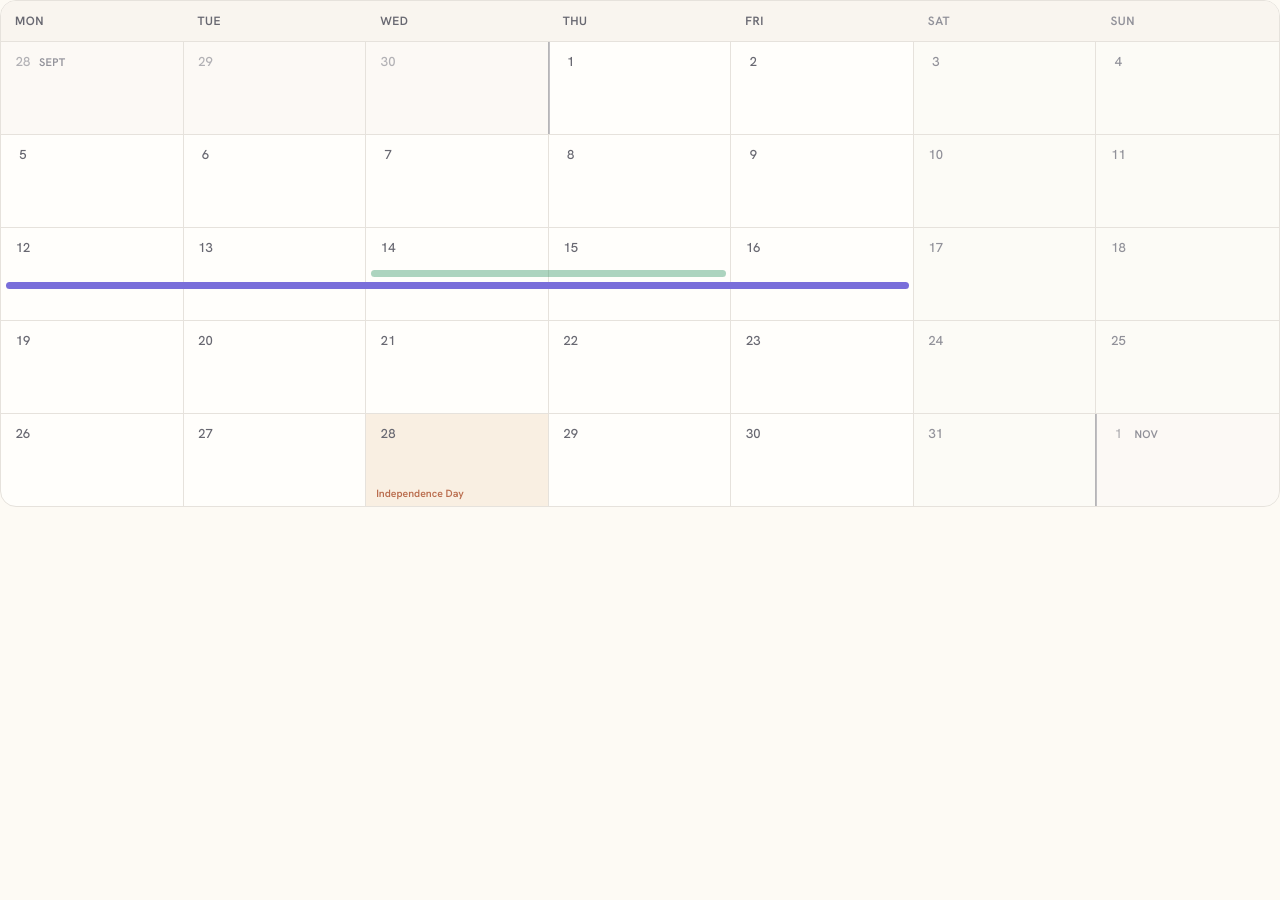
StripeCalendar › keeps the pointer cursor and never drags below 768px
Press the mouse on the button "7": (457,181) [366, 135, 549, 227]
Click the button "7": (457,181) [366, 135, 549, 227]
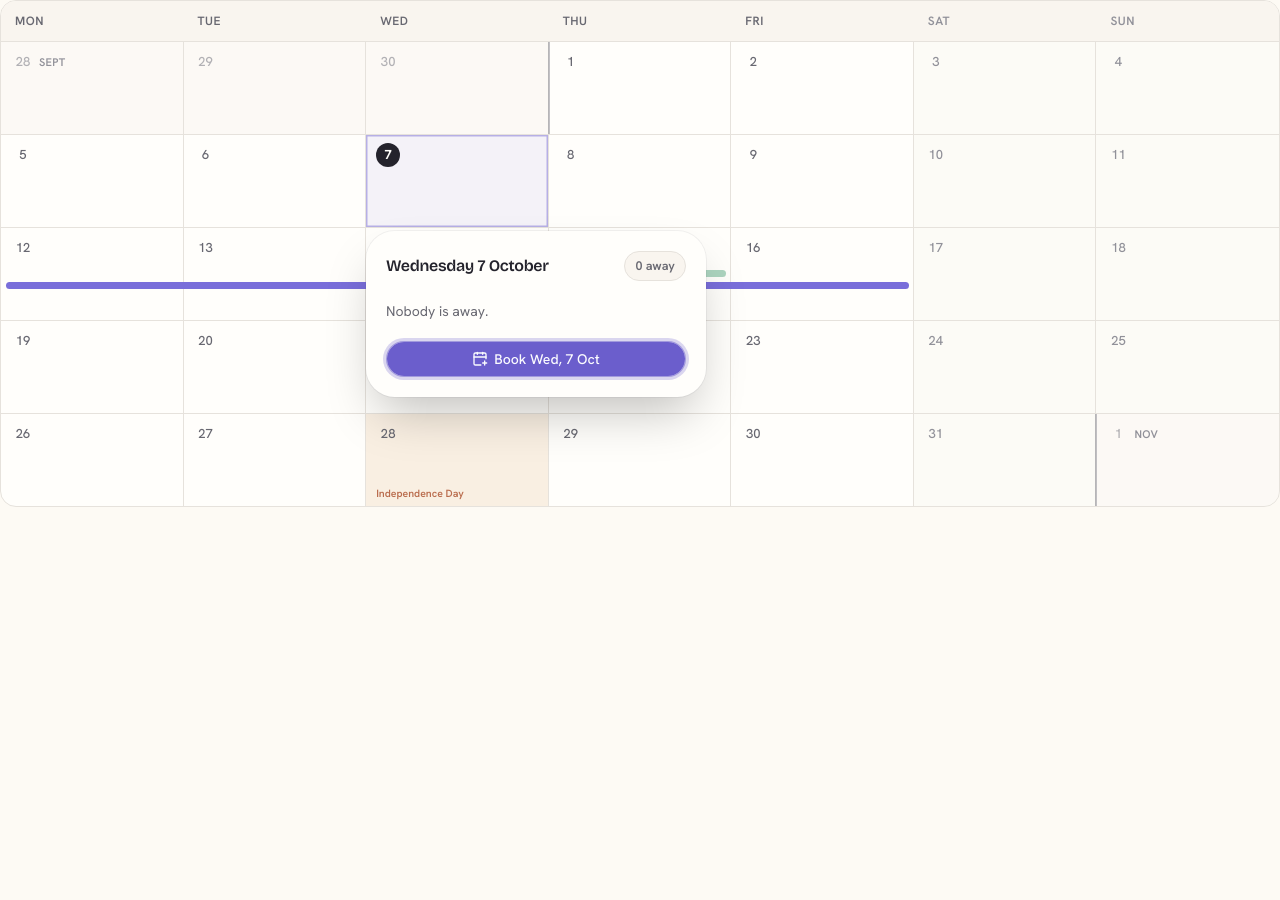
Expected: the element named "Away on" is shown, [366, 231, 706, 397]
